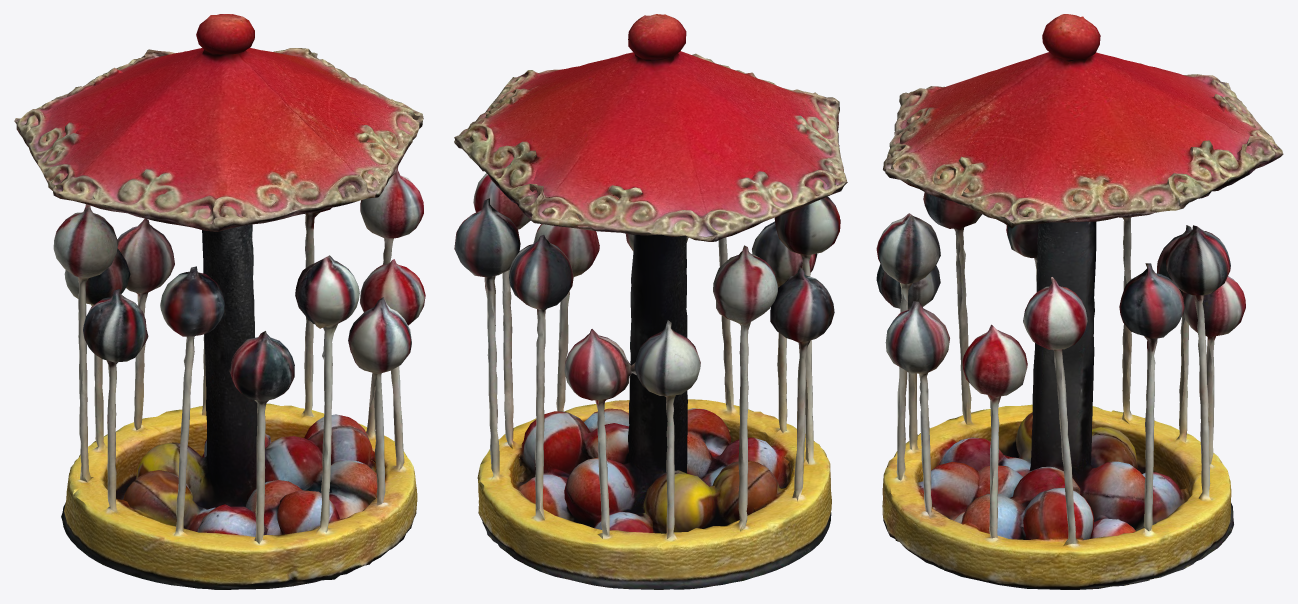
Rendered from carousel.glb.
The picture shows the model from 3 angles, left to right: view 1: azimuth 30°, elevation 25°; view 2: azimuth 150°, elevation 25°; view 3: azimuth 270°, elevation 25°; orthographic projection.
Size of the model in its own units: 0.1937 by 0.2527 by 0.188.
1 material, 1 textured.
